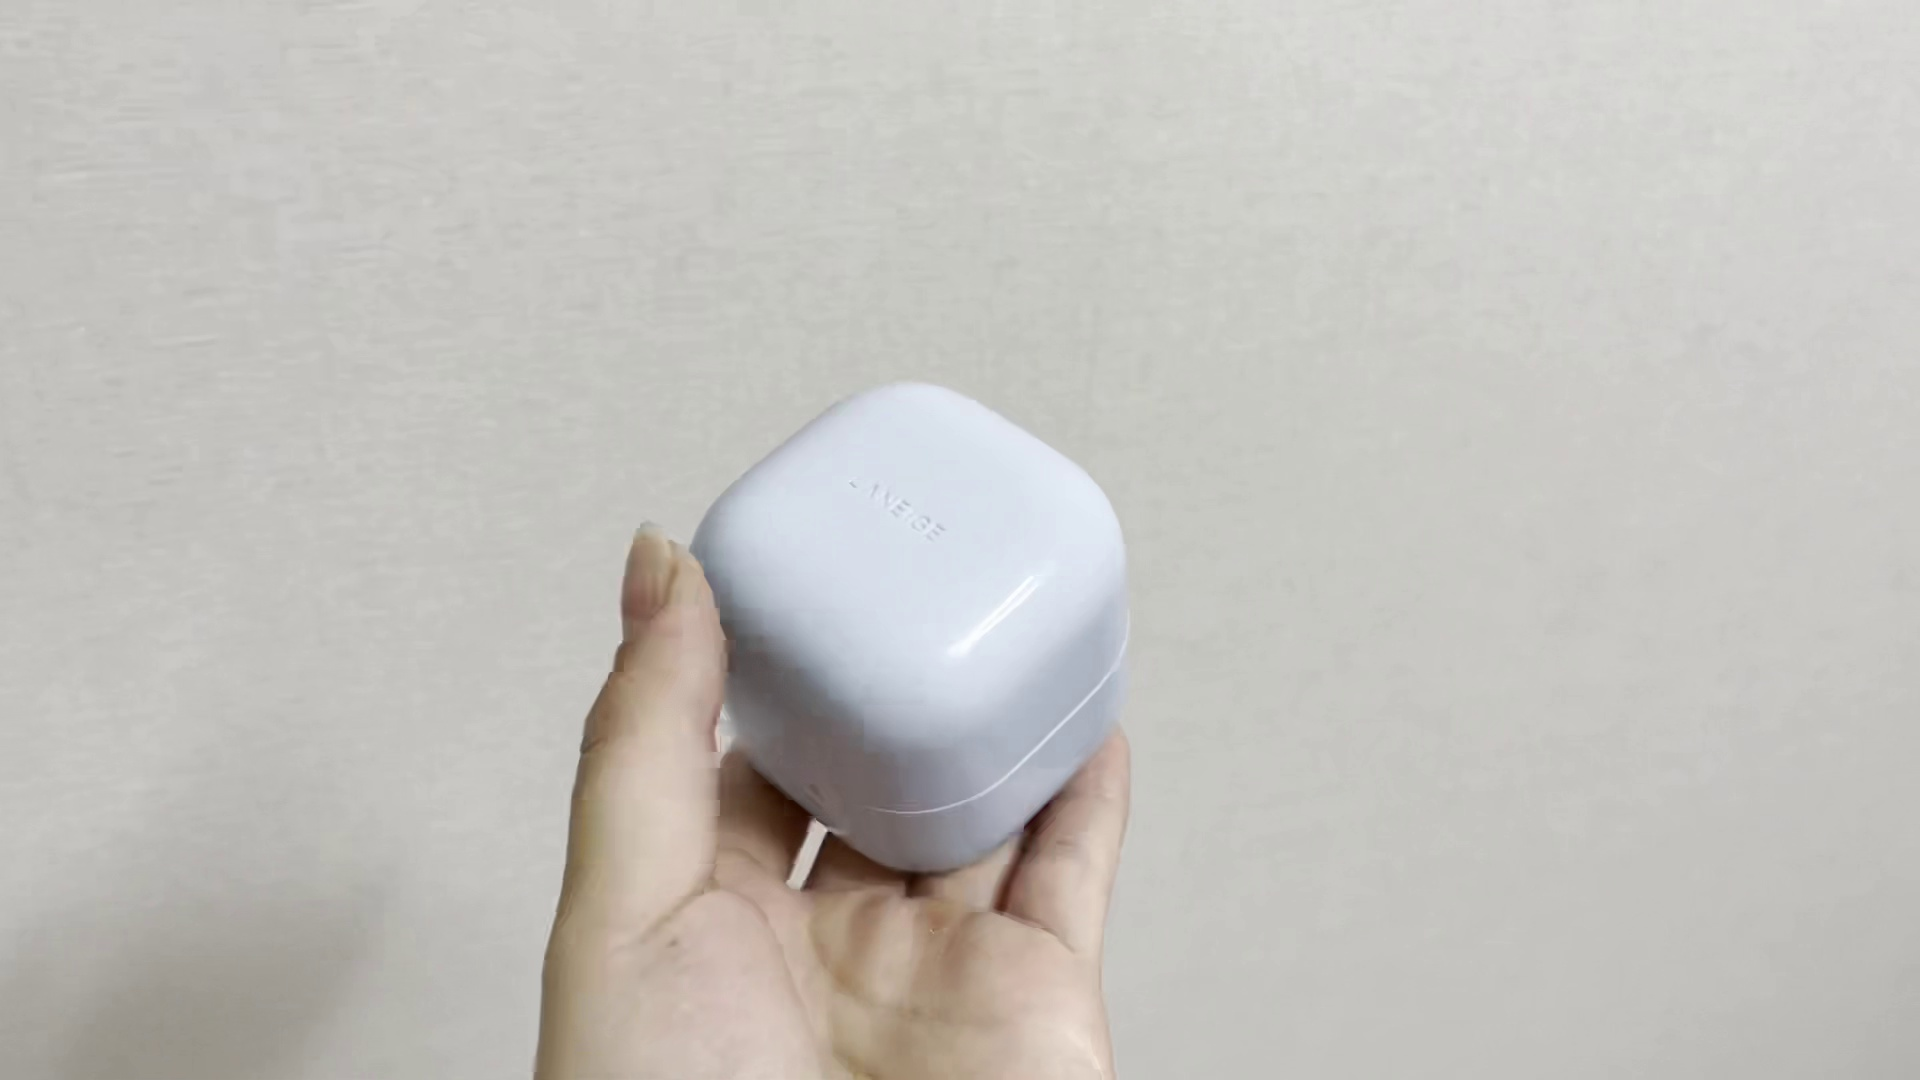cream: (682, 384, 1127, 866)
